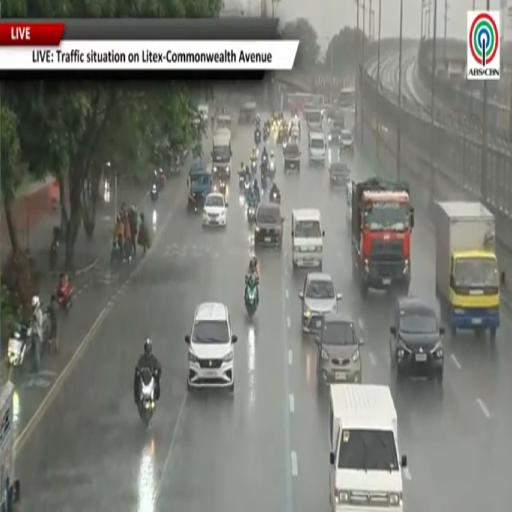bus: (284, 92, 323, 110), (339, 88, 355, 107)
car: (185, 302, 237, 391), (390, 297, 444, 382), (315, 312, 363, 383), (299, 272, 341, 333), (255, 203, 284, 248), (203, 192, 227, 227), (329, 162, 350, 186), (340, 130, 354, 152), (346, 181, 352, 226), (328, 126, 341, 146)
motorcycle: (8, 323, 32, 369), (138, 368, 155, 426), (49, 227, 61, 270), (57, 281, 73, 312), (245, 281, 258, 316), (49, 238, 59, 270), (111, 242, 124, 264), (247, 204, 256, 223), (268, 159, 275, 180), (270, 191, 281, 204), (158, 170, 165, 190), (151, 183, 158, 202), (254, 129, 262, 145), (218, 180, 226, 195), (244, 179, 251, 196), (251, 159, 257, 178), (261, 154, 267, 172), (261, 173, 267, 191), (239, 173, 245, 190), (263, 127, 269, 142)
truck: (329, 383, 407, 511), (435, 201, 504, 339), (350, 178, 414, 298), (0, 381, 19, 511), (187, 159, 212, 211), (212, 128, 232, 180), (283, 139, 300, 174)
